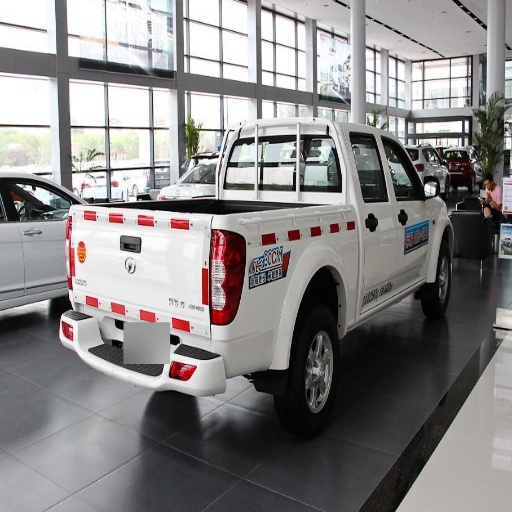back_right_door: (351, 135, 397, 302)
trunk: (77, 214, 355, 363)
